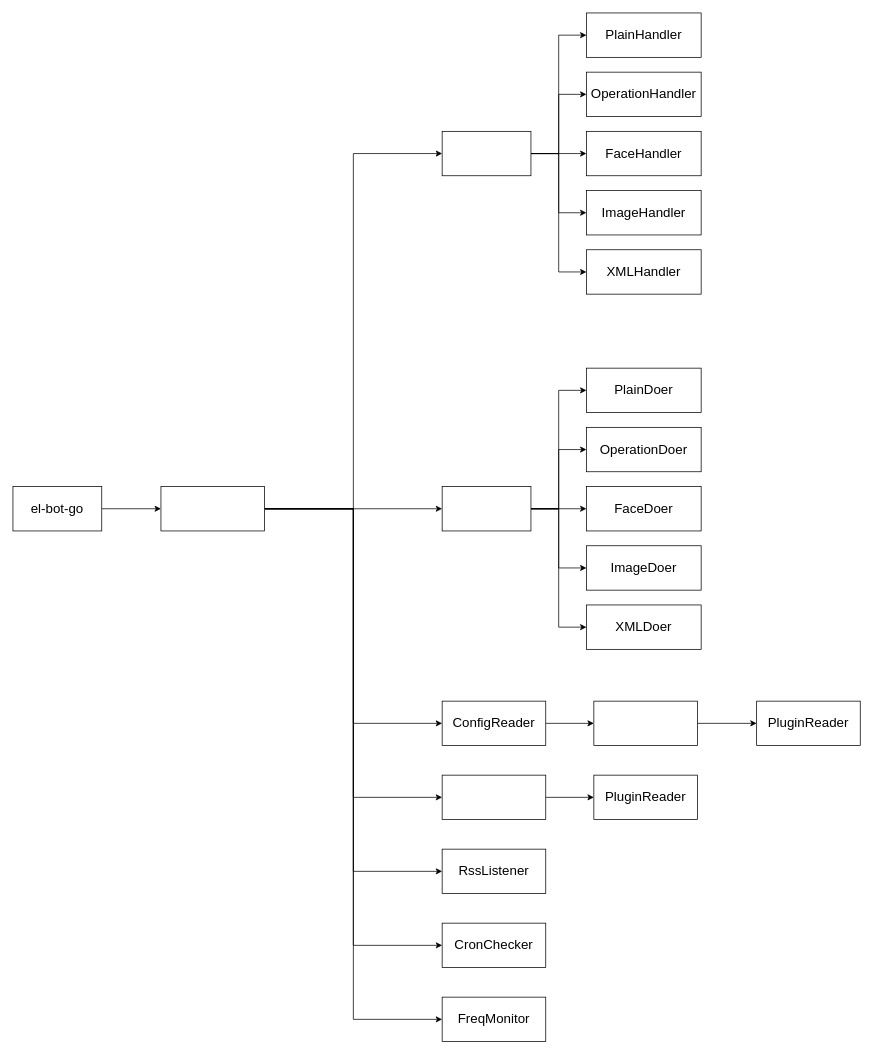
The diagram is 873 pixels wide and 1055 high, and some of its shapes have lost their labels. Here are the shapes that lost their labels. From the top down, the centre of each, then its label:
the point at 486,153: IHandler
the point at 212,508: Controller
the point at 486,508: IDoer
the point at 645,723: Compiler
the point at 493,797: PluginServer
